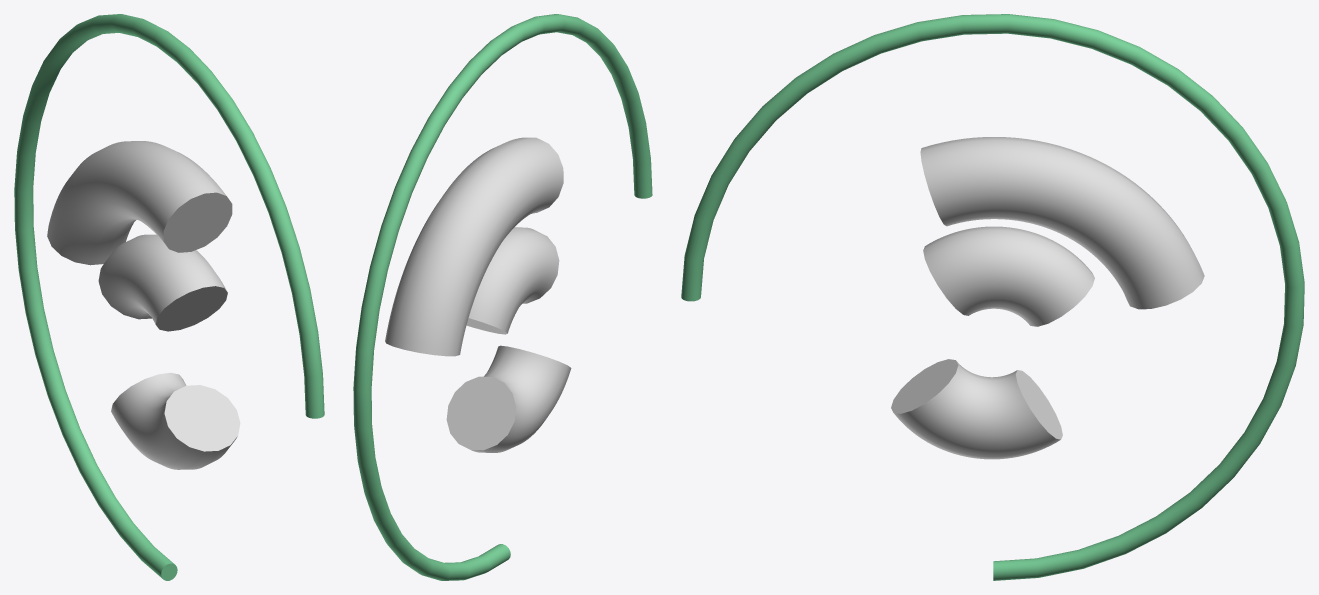
The model's file is ObsRotater1.fbx.
3 renders of one model, left to right at view 1: azimuth 30°, elevation 25°; view 2: azimuth 150°, elevation 25°; view 3: azimuth 270°, elevation 25°, orthographic. The views are drawn at different scales.
Visible parts, largest first — view 1: Torus_38, Torus_19, Torus_18, Torus_17; view 2: Torus_19, Torus_38, Torus_18, Torus_17; view 3: Torus_38, Torus_19, Torus_17, Torus_18.
Boxes of the visible parts, x1,y1,x2,y2 form: Torus_38: (14, 14, 324, 580); Torus_19: (47, 141, 232, 265); Torus_18: (111, 372, 240, 469); Torus_17: (98, 234, 227, 331); Torus_19: (385, 137, 563, 356); Torus_38: (353, 14, 652, 580); Torus_18: (446, 345, 571, 452); Torus_17: (466, 227, 559, 334); Torus_38: (681, 14, 1304, 580); Torus_19: (920, 137, 1204, 309); Torus_17: (923, 226, 1094, 326); Torus_18: (891, 359, 1062, 459).
Bounding box in the file's own units: 100 × 758 × 758.
